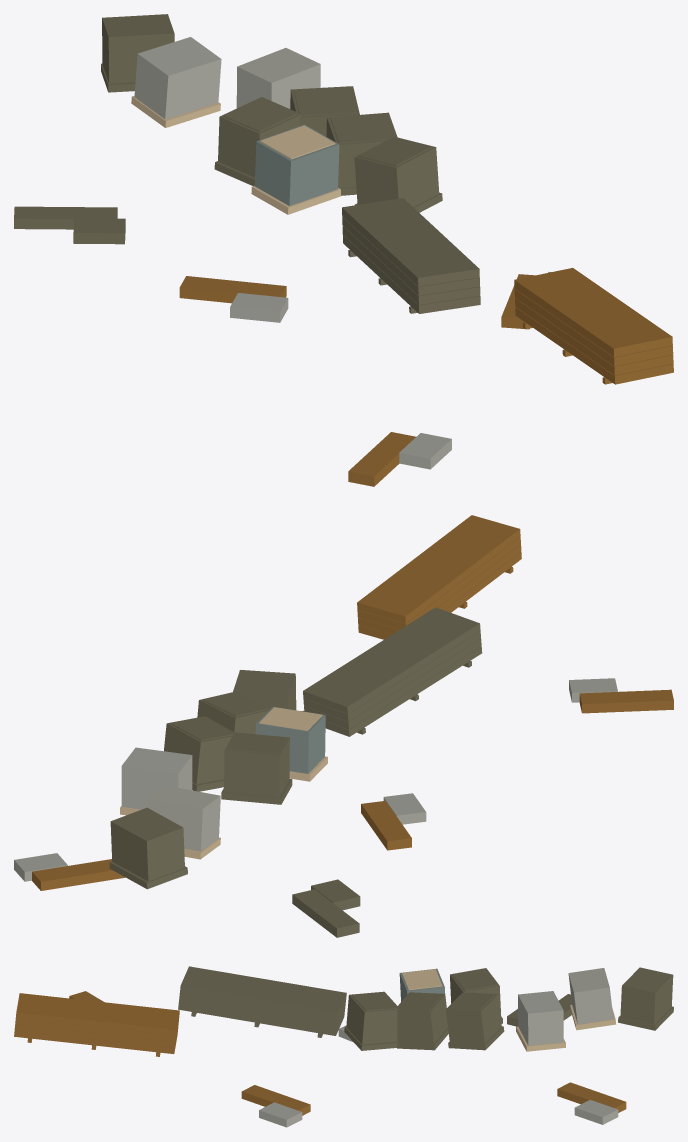
Rendered from SM_CargaMateriales_Destrozado_LOD1.fbx.
3 renders of one model, top to bottom at view 1: azimuth 30°, elevation 25°; view 2: azimuth 150°, elevation 25°; view 3: azimuth 270°, elevation 25°, orthographic. The views are drawn at different scales.
Visible parts, largest first — view 1: SM_carga_vagon_v14_LOD1; view 2: SM_carga_vagon_v14_LOD1; view 3: SM_carga_vagon_v14_LOD1.
Boxes of the visible parts, left/top/right/bottom form: SM_carga_vagon_v14_LOD1: left=14, top=14, right=673, bottom=486; SM_carga_vagon_v14_LOD1: left=14, top=515, right=673, bottom=937; SM_carga_vagon_v14_LOD1: left=14, top=966, right=673, bottom=1127.
Size of the model in its own units: 7.6 by 2.34 by 16.37.
